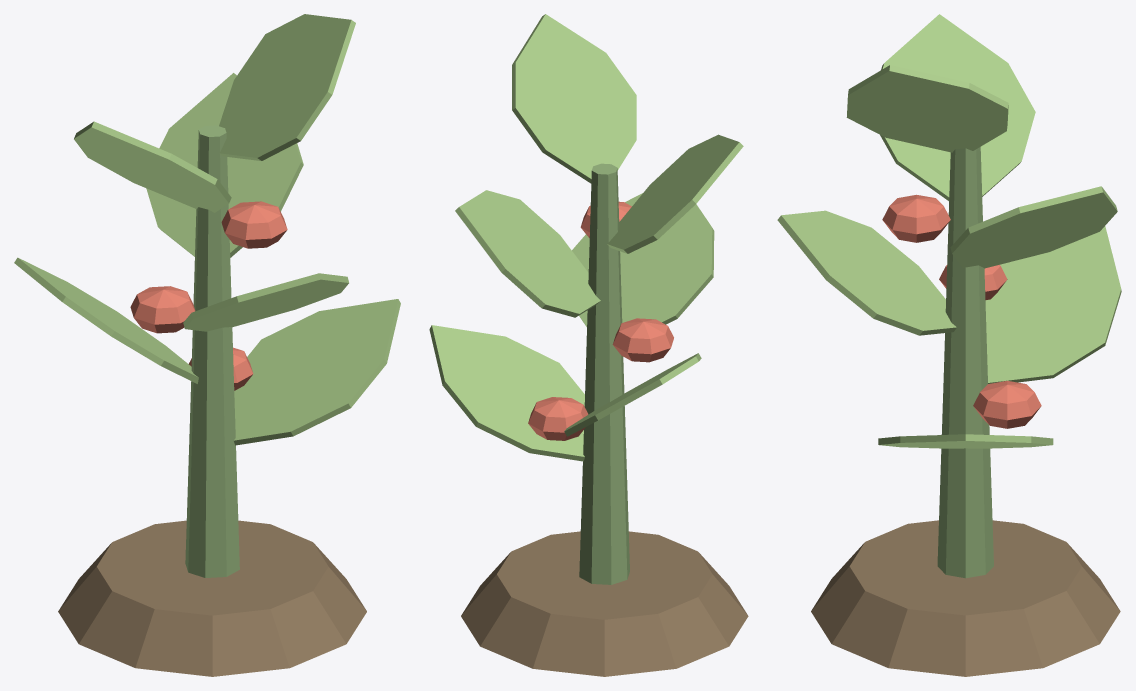
Rendered from 33-Agricultura_cultivo_lista.glb.
3 renders of one model, left to right at view 1: azimuth 30°, elevation 25°; view 2: azimuth 150°, elevation 25°; view 3: azimuth 270°, elevation 25°, orthographic. The views are drawn at different scales.
Parts seen in each view (by area): view 1: SM_Cultivo_M_Cultivo_Hoja, SM_Cultivo_M_Cultivo_Tierra, SM_Cultivo_M_Cultivo_Tallo, SM_Cultivo_M_Cultivo_Fruto; view 2: SM_Cultivo_M_Cultivo_Hoja, SM_Cultivo_M_Cultivo_Tierra, SM_Cultivo_M_Cultivo_Tallo, SM_Cultivo_M_Cultivo_Fruto; view 3: SM_Cultivo_M_Cultivo_Hoja, SM_Cultivo_M_Cultivo_Tierra, SM_Cultivo_M_Cultivo_Tallo, SM_Cultivo_M_Cultivo_Fruto.
Boxes of the visible parts, box(x1,y1,x2,y2) form: SM_Cultivo_M_Cultivo_Hoja: box(14, 14, 400, 445); SM_Cultivo_M_Cultivo_Tierra: box(58, 520, 366, 676); SM_Cultivo_M_Cultivo_Tallo: box(185, 125, 239, 577); SM_Cultivo_M_Cultivo_Fruto: box(130, 201, 287, 390); SM_Cultivo_M_Cultivo_Hoja: box(429, 14, 743, 461); SM_Cultivo_M_Cultivo_Tierra: box(461, 531, 748, 676); SM_Cultivo_M_Cultivo_Tallo: box(579, 163, 629, 584); SM_Cultivo_M_Cultivo_Fruto: box(528, 201, 673, 440); SM_Cultivo_M_Cultivo_Hoja: box(777, 14, 1121, 448); SM_Cultivo_M_Cultivo_Tierra: box(811, 520, 1120, 676); SM_Cultivo_M_Cultivo_Tallo: box(937, 147, 993, 578); SM_Cultivo_M_Cultivo_Fruto: box(882, 194, 1041, 428).
Size of the model in its own units: 0.3384 by 0.5943 by 0.3111.
